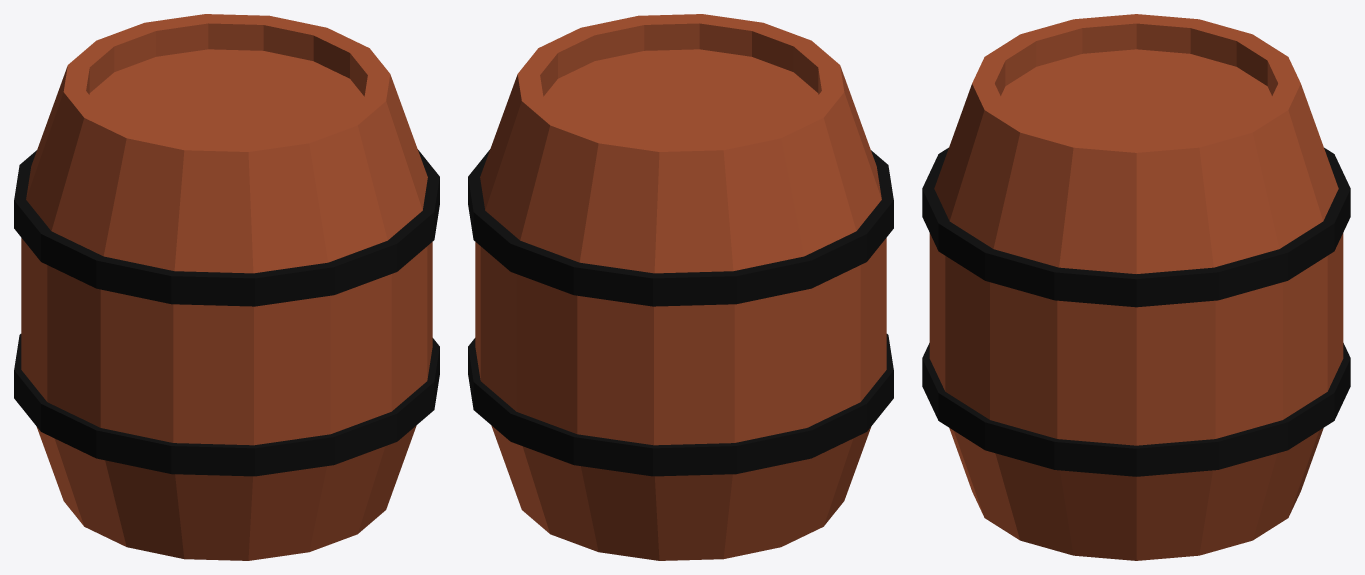
Rendered from barrel.obj.
3 renders of one model, left to right at view 1: azimuth 30°, elevation 25°; view 2: azimuth 150°, elevation 25°; view 3: azimuth 270°, elevation 25°, orthographic.
Visible parts, largest first — view 1: Barrel_Cylinder; view 2: Barrel_Cylinder; view 3: Barrel_Cylinder.
Boxes of the visible parts, x1=… form: Barrel_Cylinder: x1=14, y1=14, x2=439, y2=560; Barrel_Cylinder: x1=468, y1=14, x2=893, y2=560; Barrel_Cylinder: x1=922, y1=14, x2=1350, y2=560.
Size of the model in its own units: 2.61 by 2.74 by 2.61.
